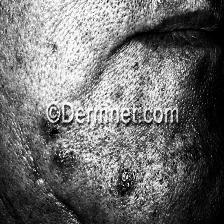Toxin: (143, 130, 203, 177), (111, 63, 154, 100), (48, 128, 78, 168), (114, 168, 140, 200)
